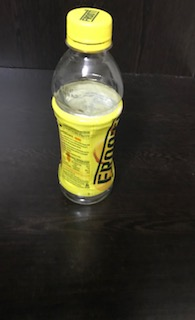bottle: (44, 5, 128, 210)
